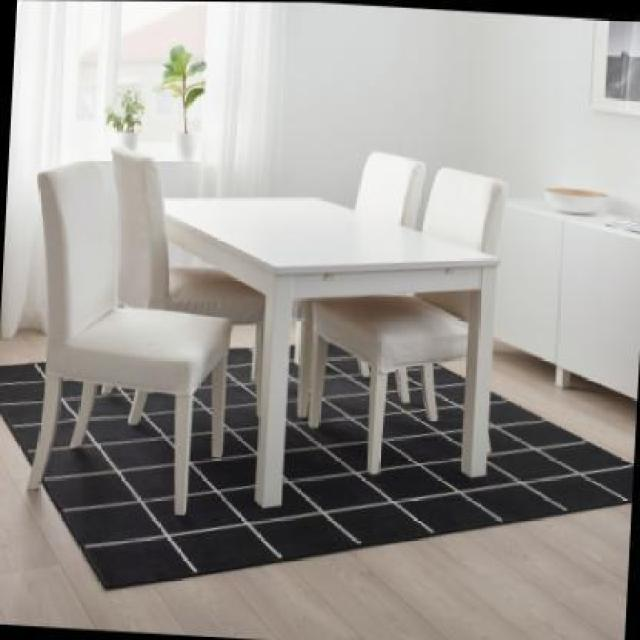tables: (160, 194, 500, 508)
